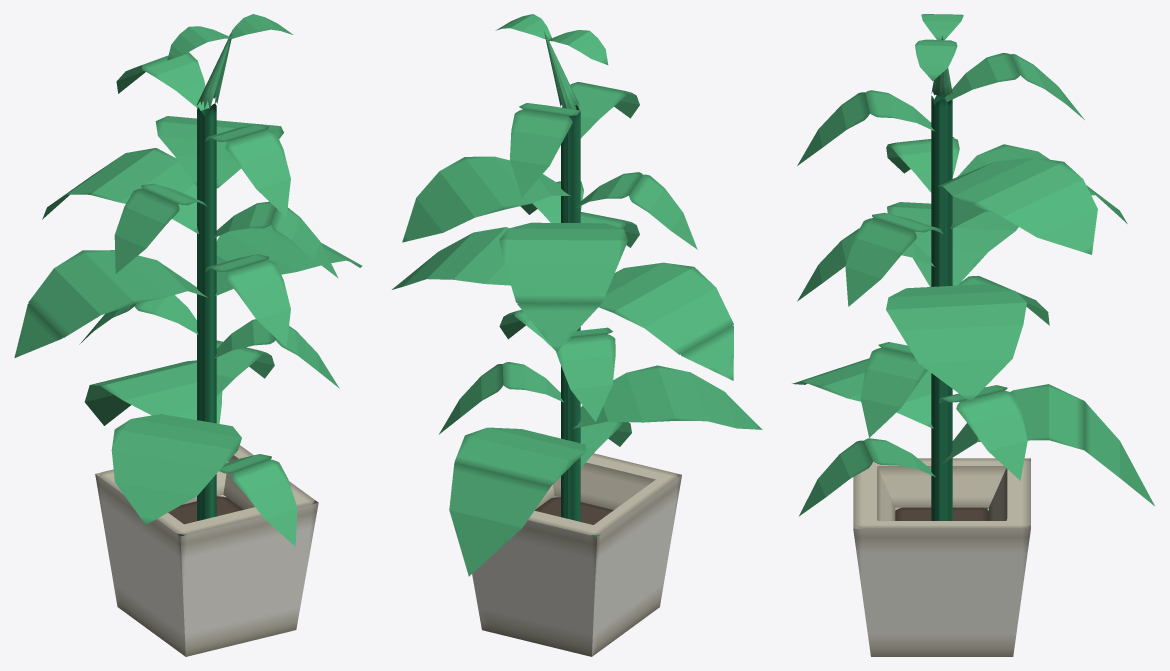
Rendered from saferoomPlant.fbx.
3 views of the same model, side by side, from view 1: azimuth 30°, elevation 25°; view 2: azimuth 150°, elevation 25°; view 3: azimuth 270°, elevation 25° (orthographic). The views are drawn at different scales.
Visible parts, largest first — view 1: cuboid; view 2: cuboid; view 3: cuboid.
Part boxes in pixels (x1=…): cuboid: x1=14, y1=14, x2=362, y2=656; cuboid: x1=392, y1=14, x2=762, y2=656; cuboid: x1=792, y1=14, x2=1154, y2=656.
Size of the model in its own units: 116 by 188 by 101.
Materials: 1 (1 with a texture image).
